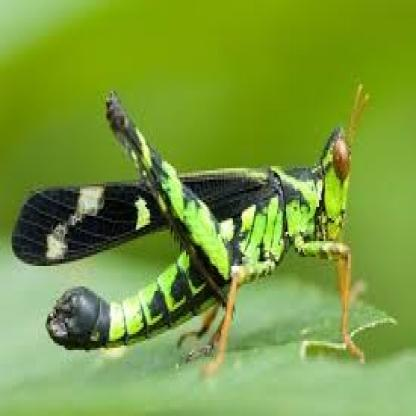grasshopper: (11, 85, 374, 357)
